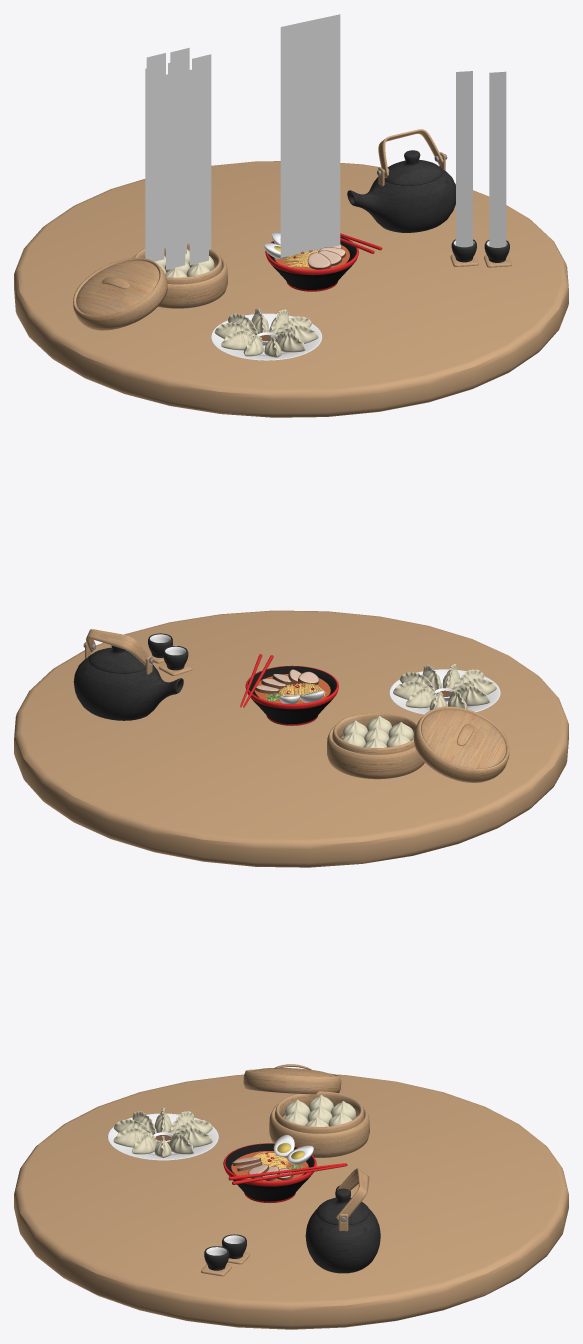
File: food-collection.glb
3 renders of one model, top to bottom at view 1: azimuth 30°, elevation 25°; view 2: azimuth 150°, elevation 25°; view 3: azimuth 270°, elevation 25°, orthographic.
Visible parts, largest first — view 1: Circle, noodle-smoke, Teapot_4, Steamer lid_12, momo-smoke-1, momo-smoke-2, momo-smoke-5, Dumpling.001_8, cup-smoke-2, cup-smoke-1, Steamer_11, Plate_9 (+9 smaller); view 2: Circle, Steamer lid_12, Teapot_4, Steamer_11, Dumpling.001_8, Dumpling_7, Object_35, Teapot handle_5, Plate_9, Object_36, Object_38, Cup.001_1; view 3: Circle, Teapot_4, Steamer_11, Dumpling.001_8, Steamer lid_12, Dumpling_7, Object_35, Plate_9, Teapot handle_5, Object_46, Object_36, Object_44.
Boxes of the visible parts, bbox=[...] form: Circle: bbox=[14, 161, 568, 417]; noodle-smoke: bbox=[280, 14, 340, 257]; Teapot_4: bbox=[347, 150, 455, 232]; Steamer lid_12: bbox=[73, 258, 167, 330]; momo-smoke-1: bbox=[166, 70, 185, 269]; momo-smoke-2: bbox=[189, 65, 208, 264]; momo-smoke-5: bbox=[145, 64, 164, 261]; Dumpling.001_8: bbox=[214, 308, 318, 357]; cup-smoke-2: bbox=[489, 71, 506, 247]; cup-smoke-1: bbox=[456, 71, 472, 247]; Steamer_11: bbox=[132, 243, 227, 308]; Plate_9: bbox=[211, 313, 322, 360]; Circle: bbox=[14, 610, 568, 867]; Steamer lid_12: bbox=[413, 706, 509, 782]; Teapot_4: bbox=[73, 642, 183, 720]; Steamer_11: bbox=[327, 712, 424, 779]; Dumpling.001_8: bbox=[393, 664, 496, 710]; Dumpling_7: bbox=[342, 716, 413, 747]; Object_35: bbox=[247, 666, 336, 723]; Teapot handle_5: bbox=[86, 629, 148, 665]; Plate_9: bbox=[389, 669, 500, 714]; Object_36: bbox=[245, 665, 338, 725]; Object_38: bbox=[256, 669, 318, 690]; Cup.001_1: bbox=[163, 646, 188, 670]; Circle: bbox=[14, 1074, 568, 1329]; Teapot_4: bbox=[305, 1184, 380, 1273]; Steamer_11: bbox=[269, 1091, 369, 1157]; Dumpling.001_8: bbox=[113, 1107, 212, 1157]; Steamer lid_12: bbox=[243, 1064, 341, 1094]; Dumpling_7: bbox=[284, 1095, 355, 1126]; Object_35: bbox=[225, 1143, 314, 1201]; Plate_9: bbox=[107, 1113, 218, 1160]; Teapot handle_5: bbox=[336, 1168, 369, 1220]; Object_46: bbox=[228, 1163, 347, 1184]; Object_36: bbox=[223, 1143, 316, 1202]; Object_44: bbox=[273, 1135, 313, 1164].
Bounding box in the file's own units: 3.7 × 2.12 × 3.7.
Materials: 13 (2 with a texture image).
